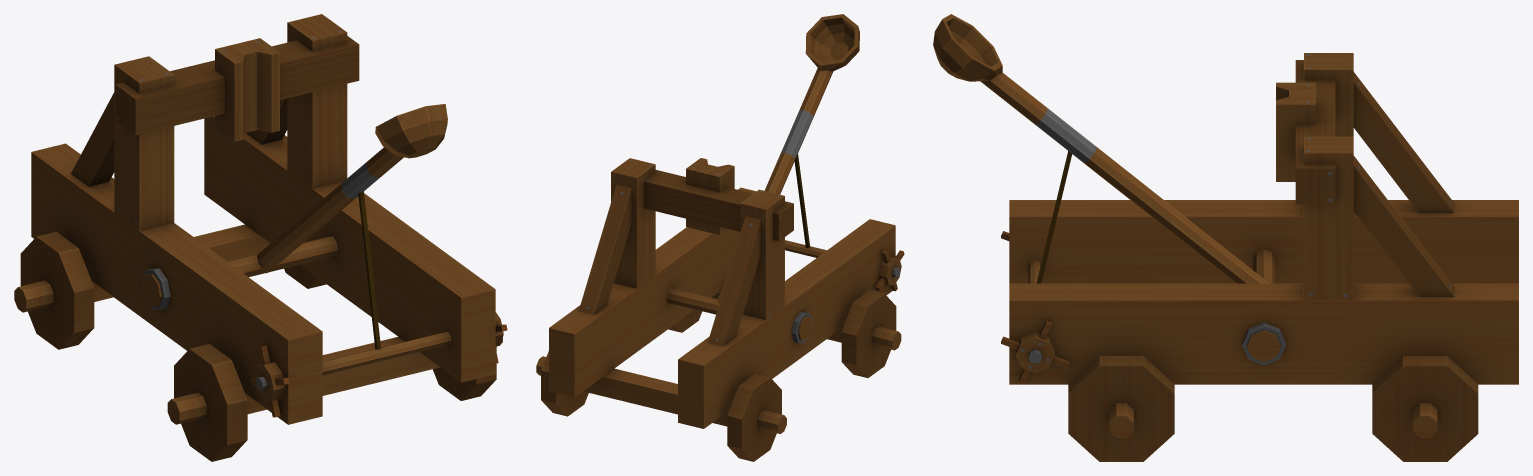
The model's file is Catapult.gltf.
3 renders of one model, left to right at view 1: azimuth 30°, elevation 25°; view 2: azimuth 150°, elevation 25°; view 3: azimuth 270°, elevation 25°, orthographic. The views are drawn at different scales.
Parts seen in each view (by area): view 1: node-0; view 2: node-0; view 3: node-0.
Boxes of the visible parts, left/top/right/bottom form: node-0: left=14, top=14, right=507, bottom=461; node-0: left=536, top=14, right=904, bottom=461; node-0: left=933, top=14, right=1518, bottom=461.
Size of the model in its own units: 9.35 by 10.52 by 14.79.
1 material, 1 textured.
